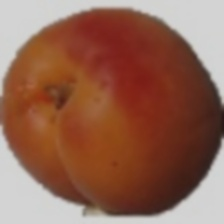apricot: (28, 61, 199, 198)
